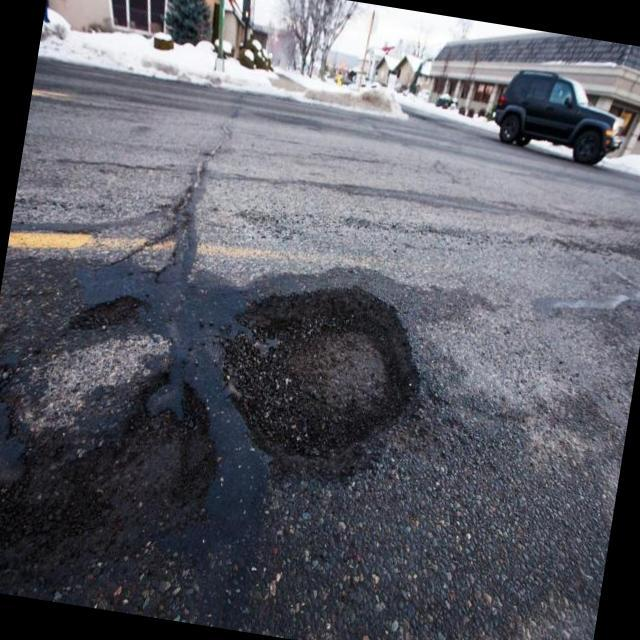Pothole: (0, 297, 218, 610), (219, 288, 418, 475)
